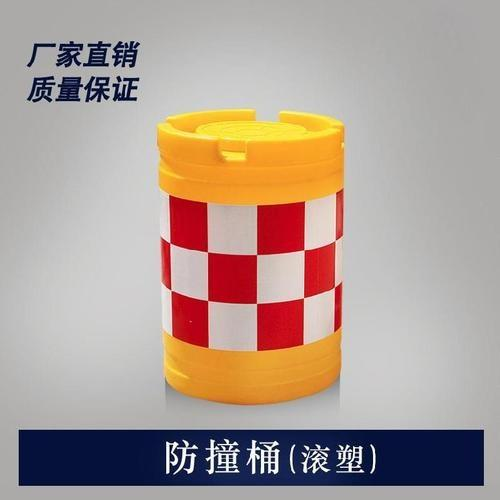cone_barrel: (152, 106, 342, 405)
